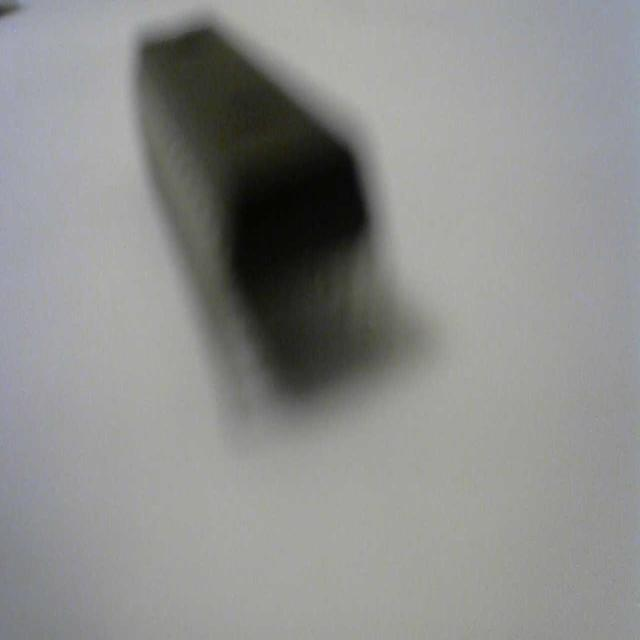atmega: (127, 15, 413, 426)
